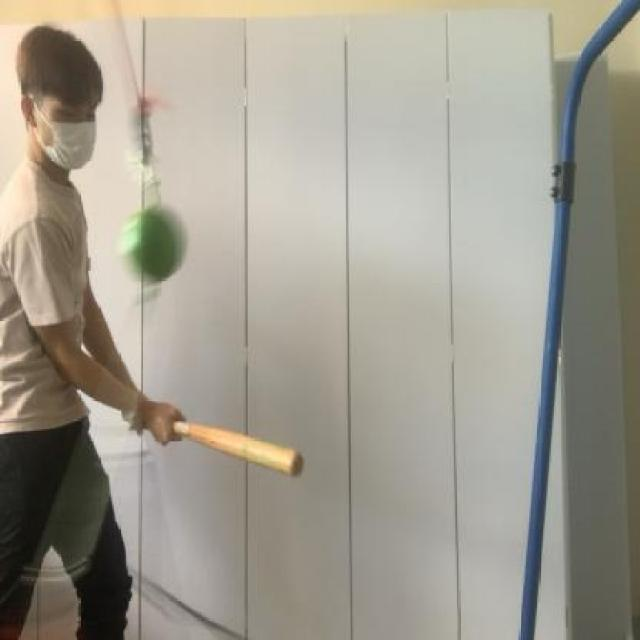baseball: (114, 190, 188, 288)
